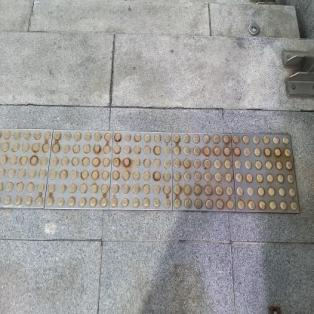Podoctatil: (0, 116, 305, 226)
